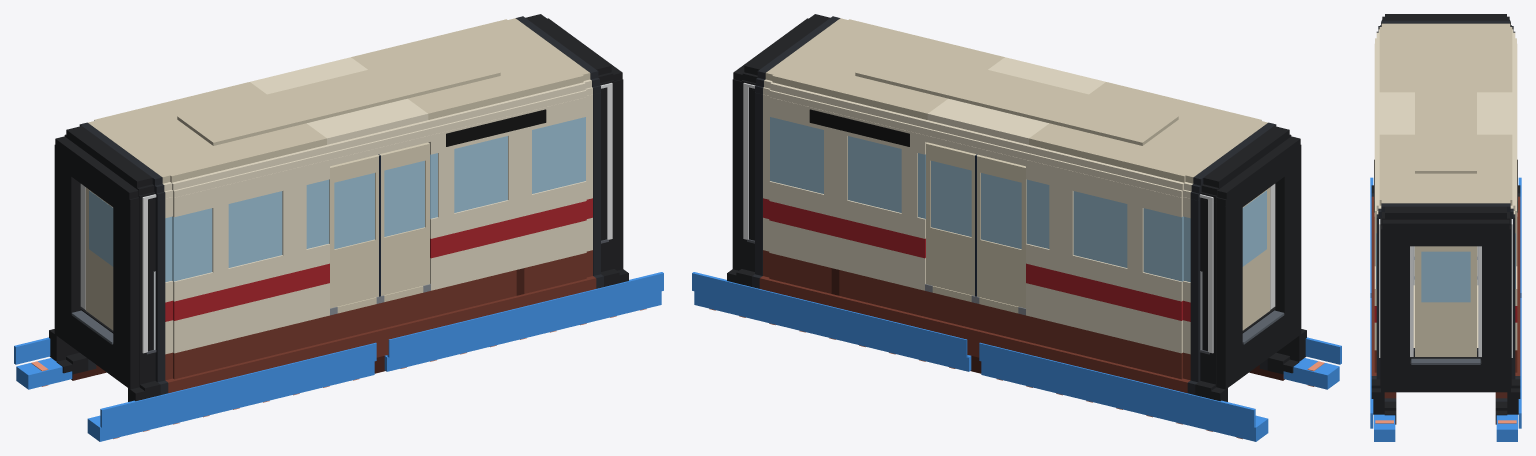
The model's file is birmingham_car.obj.
3 views of the same model, side by side, from view 1: azimuth 30°, elevation 25°; view 2: azimuth 150°, elevation 25°; view 3: azimuth 270°, elevation 25° (orthographic). The views are drawn at different scales.
Visible parts, largest first — view 1: SHELL, SHELL_diaphragm, SHELL_roof, BOGEY_REAR, BOGEY_FRONT, EXTERNAL_DOOR_4_CG_DR1_TOGGLE_TL_-0.74_X, EXTERNAL_DOOR_5_CG_DR1_TOGGLE_TL_0.74_X, CONNECTING_DOOR_1_CG_CR_TOGGLE_TL_0.98_Z, SHELL_end, SHELL_sign; view 2: SHELL, SHELL_diaphragm, SHELL_roof, BOGEY_REAR, BOGEY_FRONT, EXTERNAL_DOOR_7_CG_DL1_TOGGLE_TL_-0.74_X, EXTERNAL_DOOR_8_CG_DL1_TOGGLE_TL_0.74_X, CONNECTING_DOOR_1_CG_CR_TOGGLE_TL_0.98_Z, SHELL_end, SHELL_sign; view 3: SHELL, SHELL_diaphragm, SHELL_roof, CONNECTING_DOOR_2_CG_CF_TOGGLE_TL_0.98_Z, BOGEY_FRONT, SHELL_end, BOGEY_REAR, SHELL_gangway.
Part boxes in pixels (x1,y1,x2,y2): SHELL: (64,14,619,398); SHELL_diaphragm: (49,18,628,401); SHELL_roof: (177,46,500,145); BOGEY_REAR: (14,337,376,441); BOGEY_FRONT: (384,272,663,371); EXTERNAL_DOOR_4_CG_DR1_TOGGLE_TL_-0.74_X: (329,154,380,308); EXTERNAL_DOOR_5_CG_DR1_TOGGLE_TL_0.74_X: (379,142,429,295); CONNECTING_DOOR_1_CG_CR_TOGGLE_TL_0.98_Z: (85,187,113,330); SHELL_end: (80,83,612,353); SHELL_sign: (446,109,546,146); SHELL: (736,14,1291,398); SHELL_diaphragm: (727,18,1306,401); SHELL_roof: (855,46,1178,145); BOGEY_REAR: (979,337,1341,441); BOGEY_FRONT: (692,272,971,371); EXTERNAL_DOOR_7_CG_DL1_TOGGLE_TL_-0.74_X: (975,154,1026,308); EXTERNAL_DOOR_8_CG_DL1_TOGGLE_TL_0.74_X: (926,142,976,295); CONNECTING_DOOR_1_CG_CR_TOGGLE_TL_0.98_Z: (1242,187,1270,330); SHELL_end: (743,83,1275,353); SHELL_sign: (809,109,909,146); SHELL: (1371,14,1520,424); SHELL_diaphragm: (1371,16,1520,420); SHELL_roof: (1415,50,1476,173); CONNECTING_DOOR_2_CG_CF_TOGGLE_TL_0.98_Z: (1415,246,1476,356); BOGEY_FRONT: (1370,298,1521,441); SHELL_end: (1379,222,1512,357); BOGEY_REAR: (1370,177,1521,297); SHELL_gangway: (1411,358,1480,363).
Bounding box in the file's own units: 9 × 3.82 × 2.44.
Materials: 1 (1 with a texture image).
